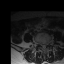CCS_stenosis: (43, 43, 45, 50)
LFS_stenosis: (46, 41, 48, 46)
LLS_normal: (45, 43, 46, 49)
RFS_stenosis: (39, 42, 41, 47)
RLS_normal: (41, 43, 43, 48)
